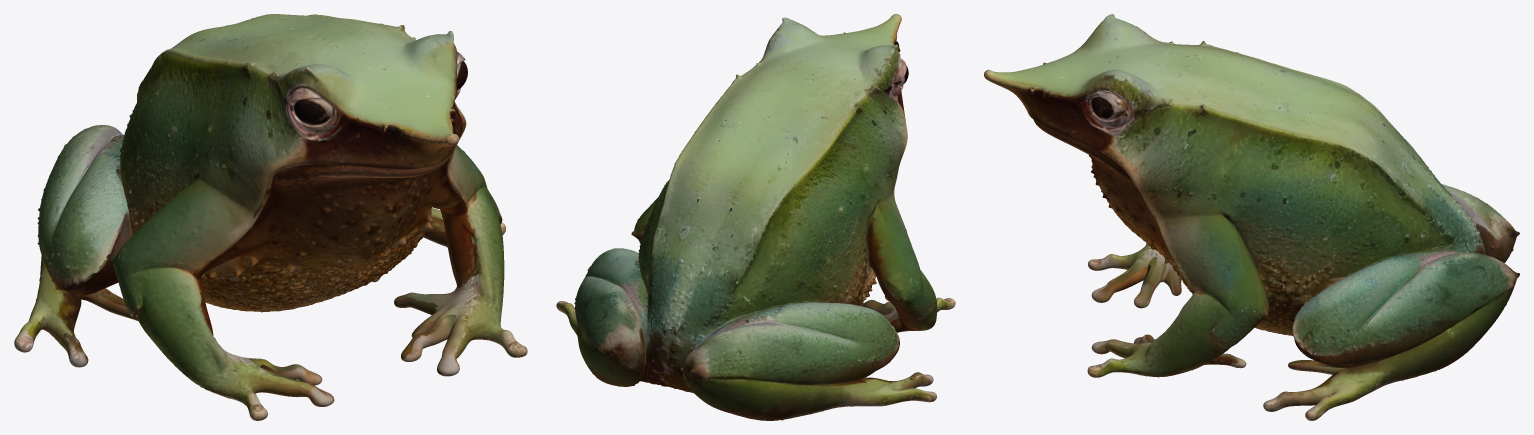
The model's file is ranadedarwin.glb.
The picture shows the model from 3 angles, left to right: view 1: azimuth 30°, elevation 25°; view 2: azimuth 150°, elevation 25°; view 3: azimuth 270°, elevation 25°; orthographic projection. The views are drawn at different scales.
Visible parts, largest first — view 1: texture_pbr_v128; view 2: texture_pbr_v128; view 3: texture_pbr_v128.
Part boxes in pixels (<box>): texture_pbr_v128: <box>14,14,527,420</box>; texture_pbr_v128: <box>556,14,955,420</box>; texture_pbr_v128: <box>984,14,1519,420</box>.
Size of the model in its own units: 0.9692 by 0.6386 by 1.09.
Materials: 1 (1 with a texture image).
